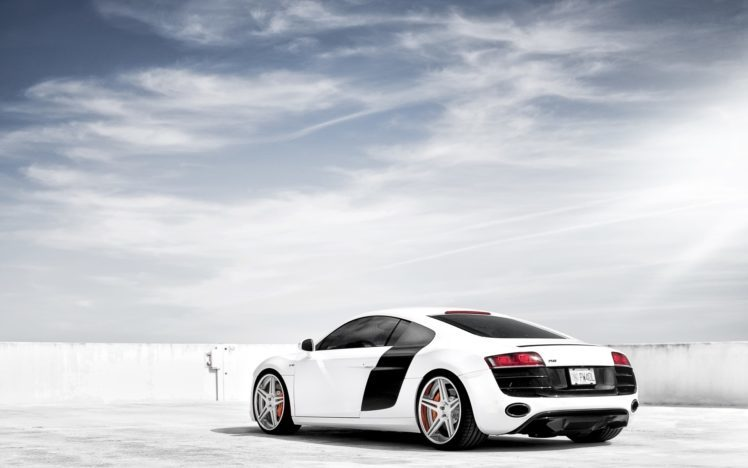audi: (246, 309, 642, 453)
